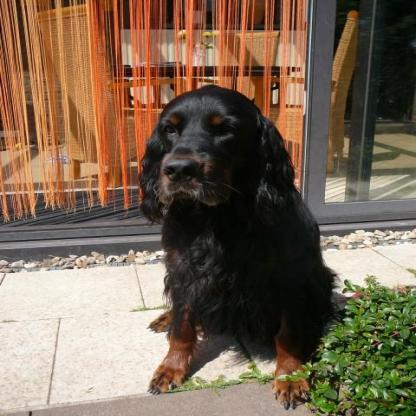Gordon_setter: (134, 81, 336, 407)
